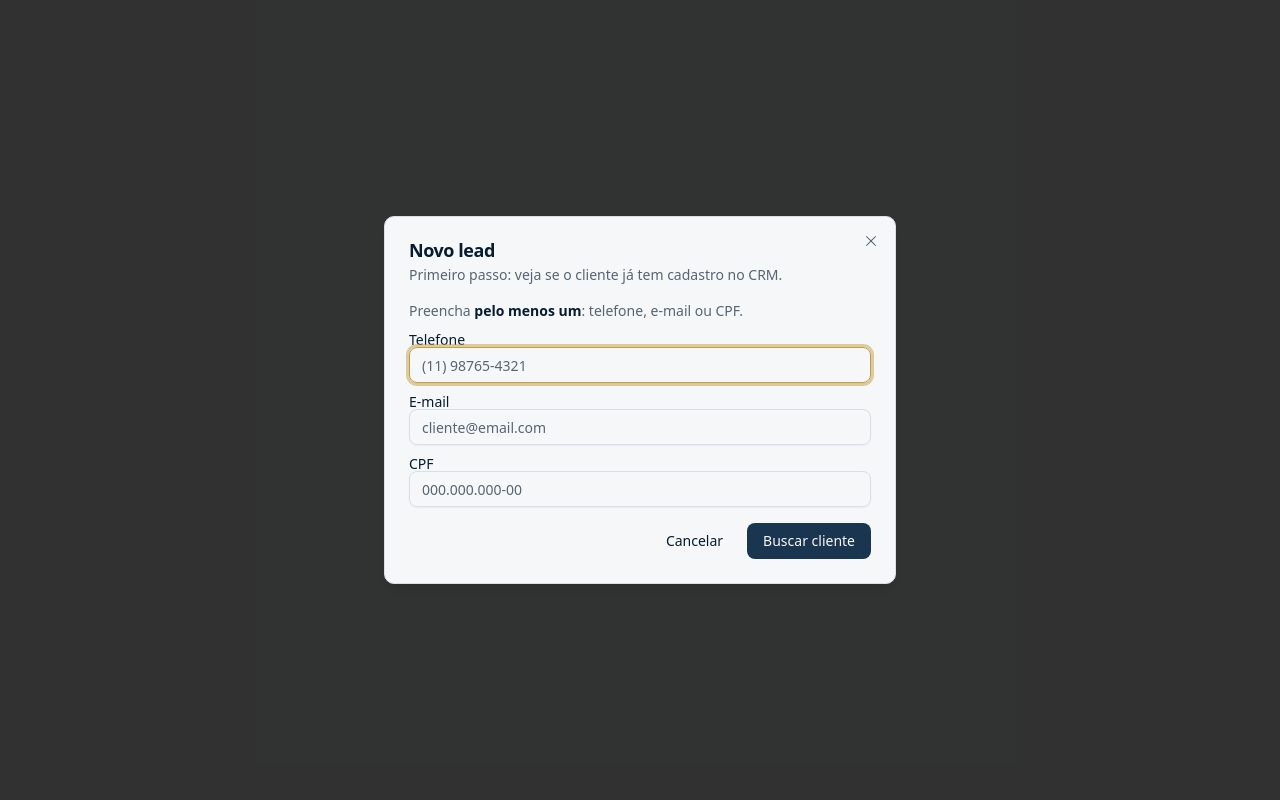
Test: Novo lead do corretor: a busca vem primeiro › conferência final: CPF mudado no cadastro acha o cliente e volta à busca
Type "11987654321" into the field labelled "Telefone".
click(640, 365); type("11987654321")  # box [409,347,871,383]
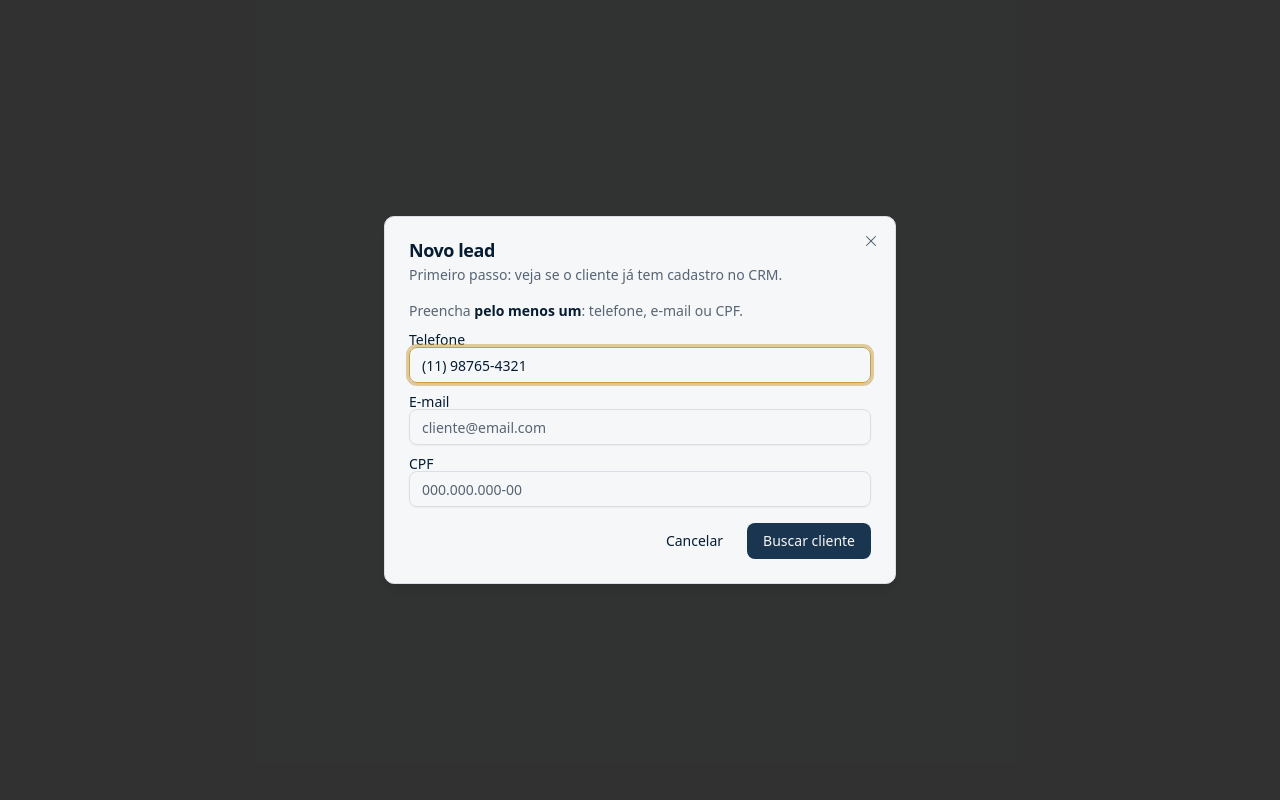
Click the button "Buscar cliente".
click(809, 541)  # box [747,523,871,559]
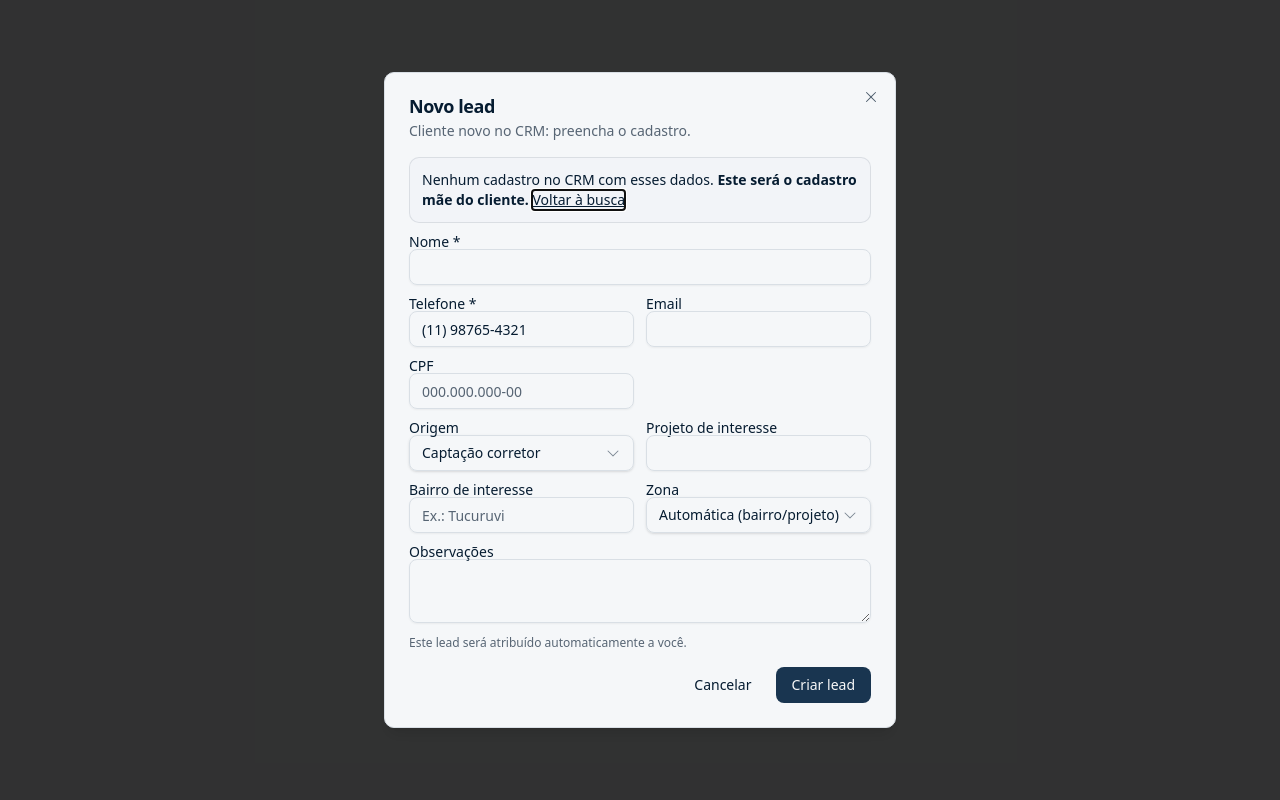
Expected: the message with test id "cadastro-mae" is shown, [409,157,871,223]
Type "Carla" into the field below "Nome *".
click(640, 267); type("Carla")  # box [409,249,871,285]
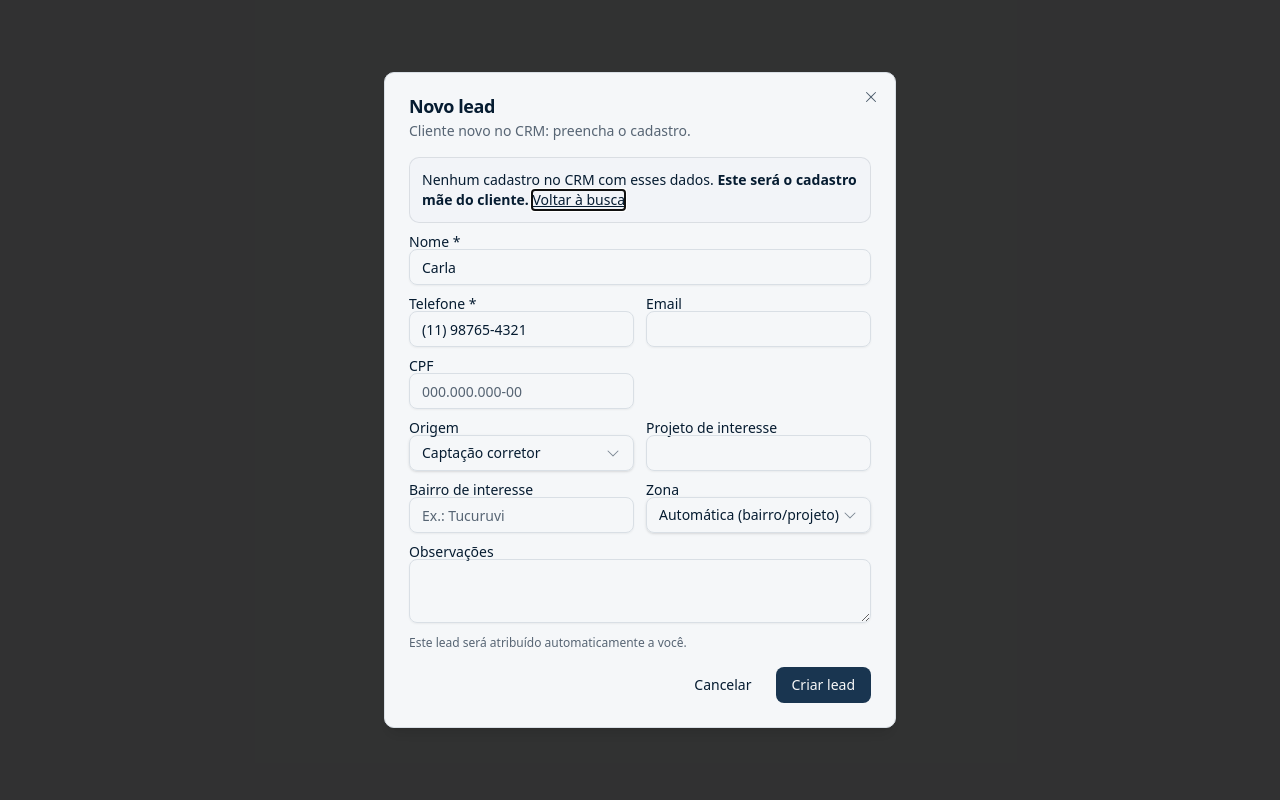
Type "529.982.247-25" into the field with placeholder "000.000.000-00".
click(522, 391); type("529.982.247-25")  # box [409,373,634,409]
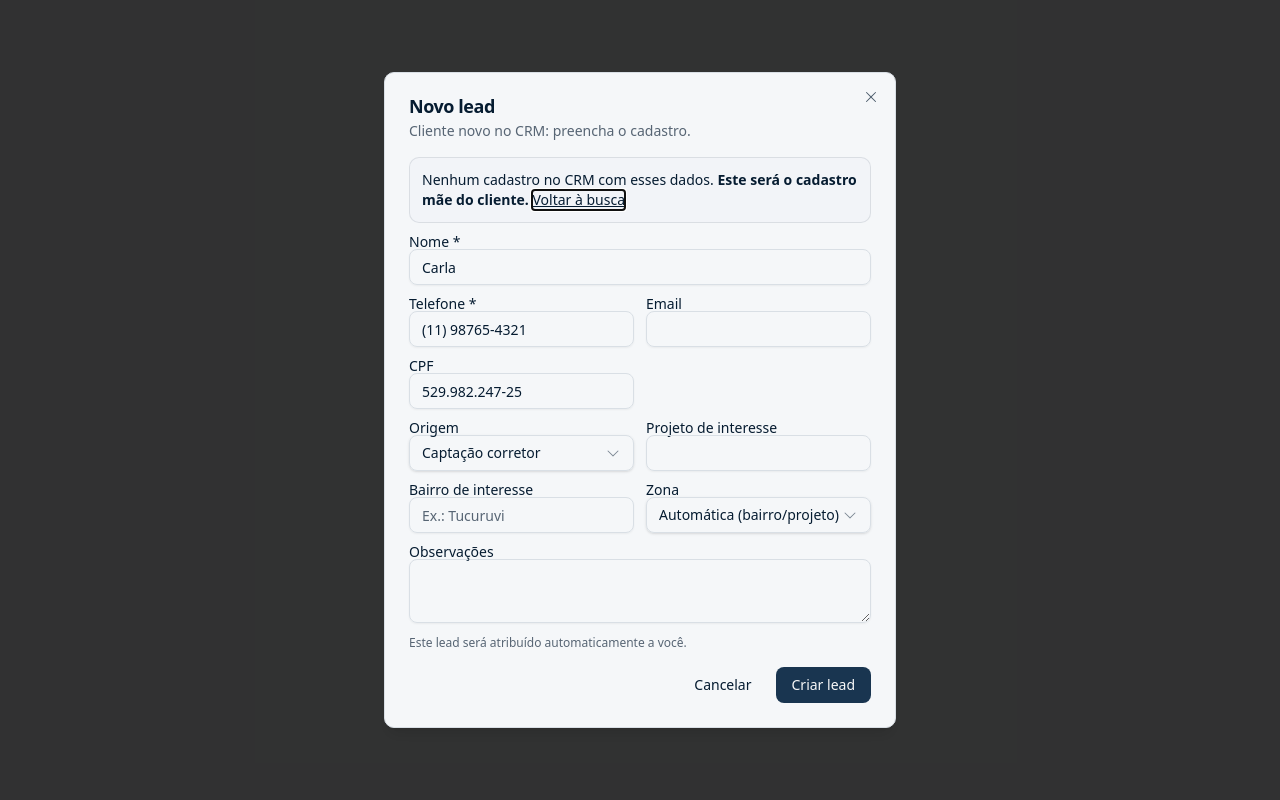
Click the button "Criar lead".
click(823, 685)  # box [776,667,871,703]
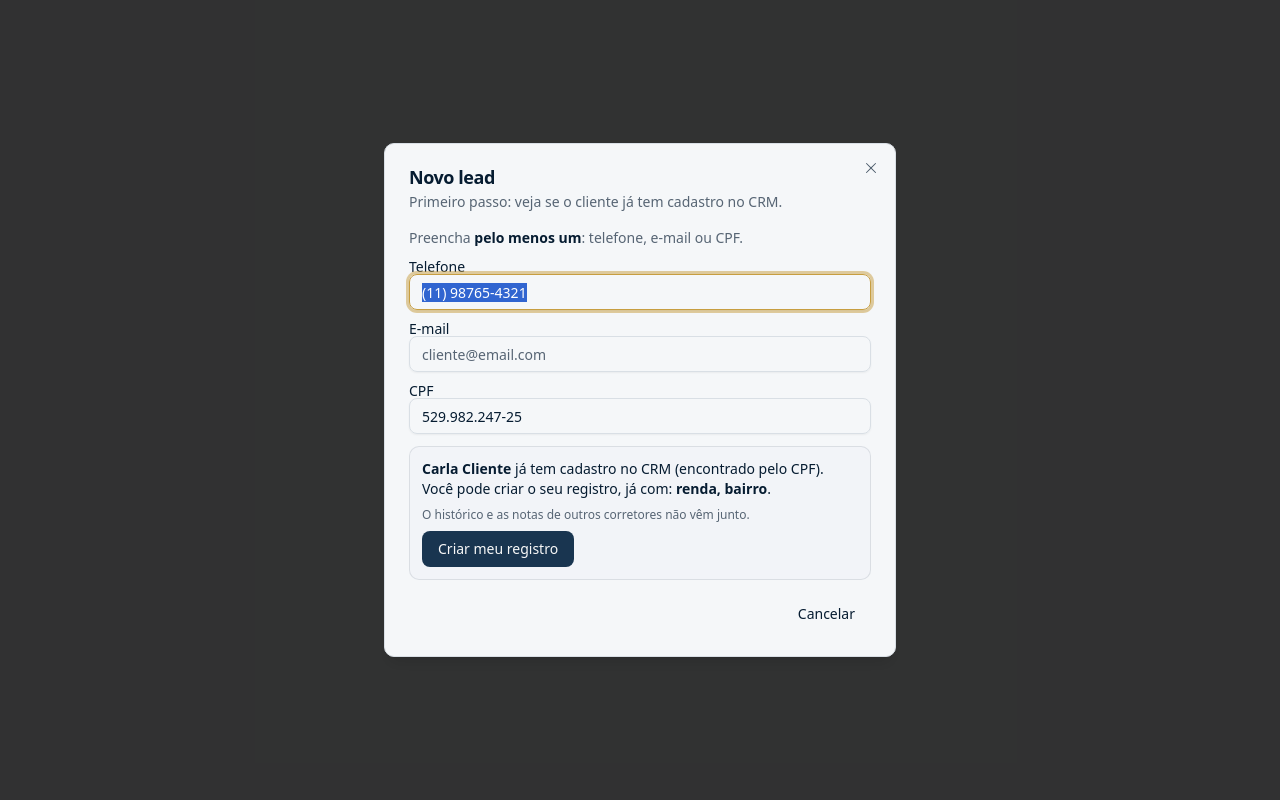
Expected: the element with test id "oportunidade-disponivel" shows "encontrado pelo CPF", [409,446,871,580]
